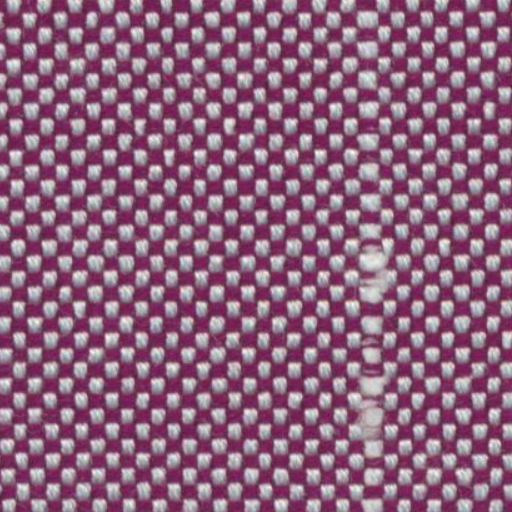DaiSha: (341, 14, 400, 499)
